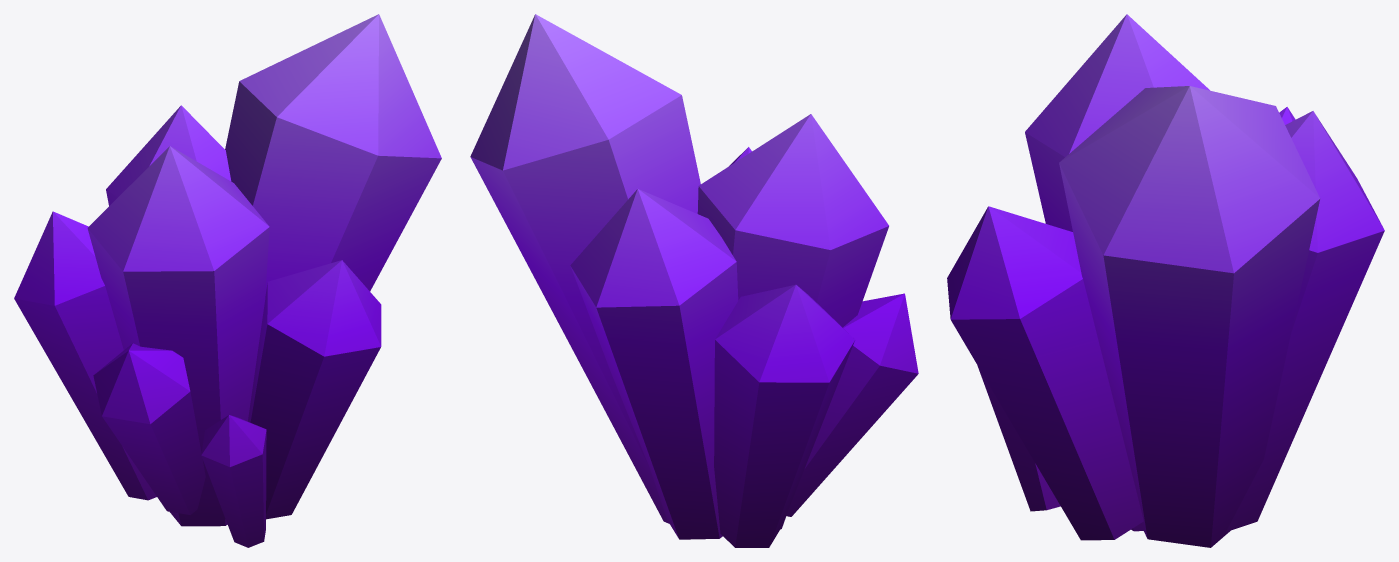
The model's file is Crystal_02A.glb.
3 views of the same model, side by side, from view 1: azimuth 30°, elevation 25°; view 2: azimuth 150°, elevation 25°; view 3: azimuth 270°, elevation 25° (orthographic). The views are drawn at different scales.
Parts seen in each view (by area): view 1: Crystal_02A; view 2: Crystal_02A; view 3: Crystal_02A.
Boxes of the visible parts, left/top/right/bottom form: Crystal_02A: left=14, top=14, right=441, bottom=547; Crystal_02A: left=470, top=14, right=918, bottom=547; Crystal_02A: left=947, top=14, right=1384, bottom=547.
Bounding box in the file's own units: 0.5488 × 0.6425 × 0.4667.
1 material, 1 textured.
